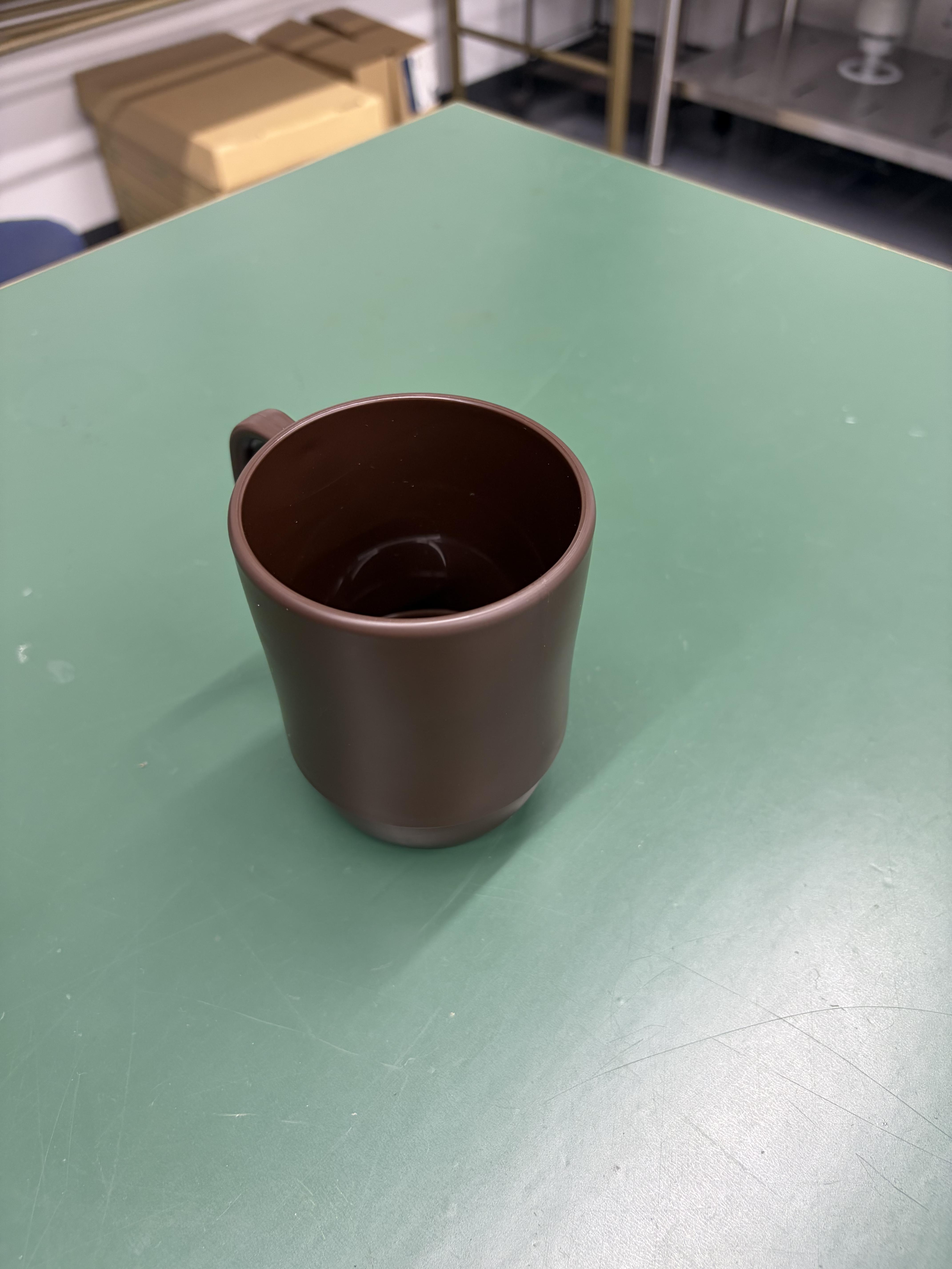mug-real100-3d100: (228, 393, 595, 847)
